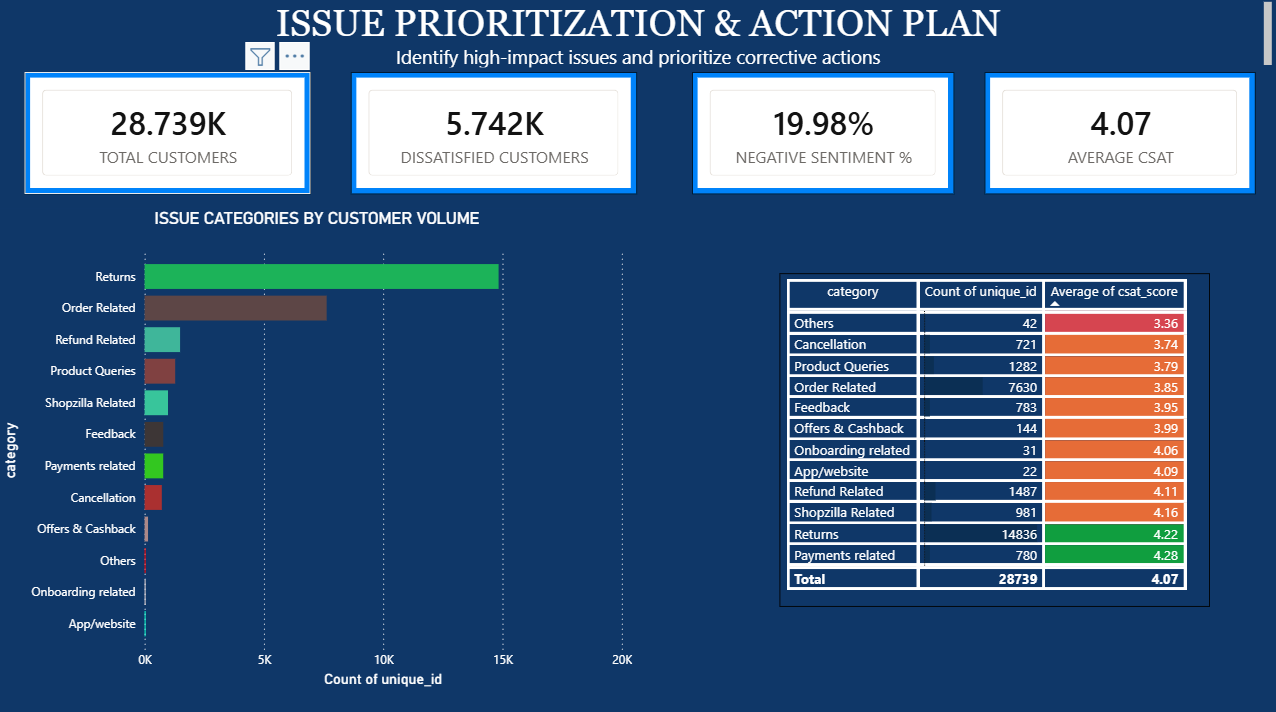

Layout of this report page (visuals, bound fields, positions):
{"tool":"powerbi","page":{"name":"ISSUE PRIORITIZATION & ACTION PLAN","canvas":[1280,720],"ordinal":2},"visuals":[{"type":"textbox","box":[10,0,1270,75],"z":0},{"type":"cardVisual","fields":{"Data":["Count(customer_support_sentiment_scored.unique_id)"]},"box":[27.5,75,286.2,122.5],"z":1000},{"type":"cardVisual","fields":{"Data":["Count(customer_support_sentiment_scored.unique_id)"]},"box":[353.8,75,286.2,122.5],"z":3000},{"type":"cardVisual","fields":{"Data":["customer_support_sentiment_scored.Negative Sentiment %"]},"box":[695,75,262.5,122.5],"z":4000},{"type":"cardVisual","fields":{"Data":["Avg(customer_support_sentiment_scored.csat_score)"]},"box":[987.5,75,271.2,122.5],"z":5000},{"type":"clusteredBarChart","title":"ISSUE CATEGORIES BY CUSTOMER VOLUME","fields":{"Category":["customer_support_sentiment_scored.category"],"Y":["Count(customer_support_sentiment_scored.unique_id)"]},"box":[0,211.2,640,483.8],"z":6000},{"type":"tableEx","fields":{"Values":["customer_support_sentiment_scored.category","customer_support_sentiment_scored.unique_id","Avg(customer_support_sentiment_scored.csat_score)"]},"box":[782.5,276.2,430,333.8],"z":9000}]}

Visuals, with their boxes in screenshot pixels (x1, y1, x2, y2), scaled from the page's 1280x720 canvas onto the 1276x712 screenshot:
textbox: (10, 0, 1275, 74)
cardVisual - Count(customer_support_sentiment_scored.unique_id): (27, 74, 313, 195)
cardVisual - Count(customer_support_sentiment_scored.unique_id): (353, 74, 638, 195)
cardVisual - customer_support_sentiment_scored.Negative Sentiment %: (693, 74, 955, 195)
cardVisual - Avg(customer_support_sentiment_scored.csat_score): (984, 74, 1255, 195)
"ISSUE CATEGORIES BY CUSTOMER VOLUME" clusteredBarChart: (0, 209, 638, 687)
tableEx - customer_support_sentiment_scored.category x customer_support_sentiment_scored.unique_id: (780, 273, 1209, 603)
